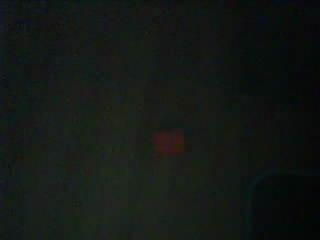lego: (151, 129, 186, 154)
